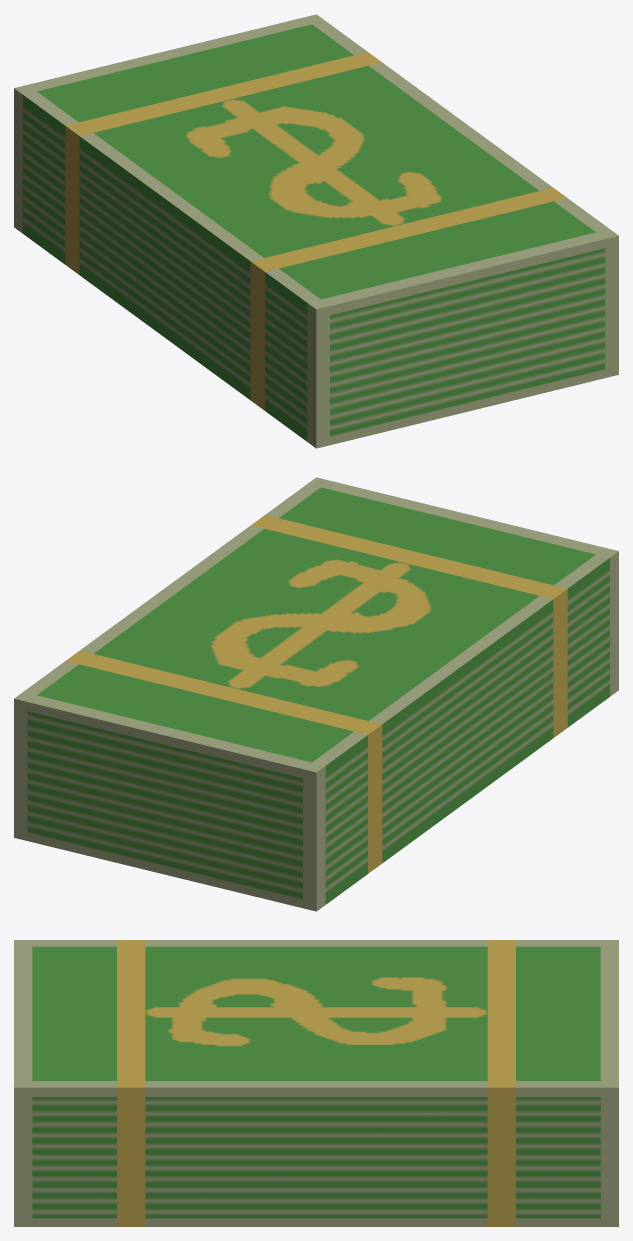
The model's file is Money.fbx.
3 renders of one model, top to bottom at view 1: azimuth 30°, elevation 25°; view 2: azimuth 150°, elevation 25°; view 3: azimuth 270°, elevation 25°, orthographic.
Visible parts, largest first — view 1: Money; view 2: Money; view 3: Money.
Boxes of the visible parts, bbox=[...] form: Money: bbox=[14, 14, 618, 448]; Money: bbox=[14, 477, 618, 911]; Money: bbox=[14, 940, 618, 1226].
Bounding box in the file's own units: 1.35 × 0.7792 × 0.3424.
